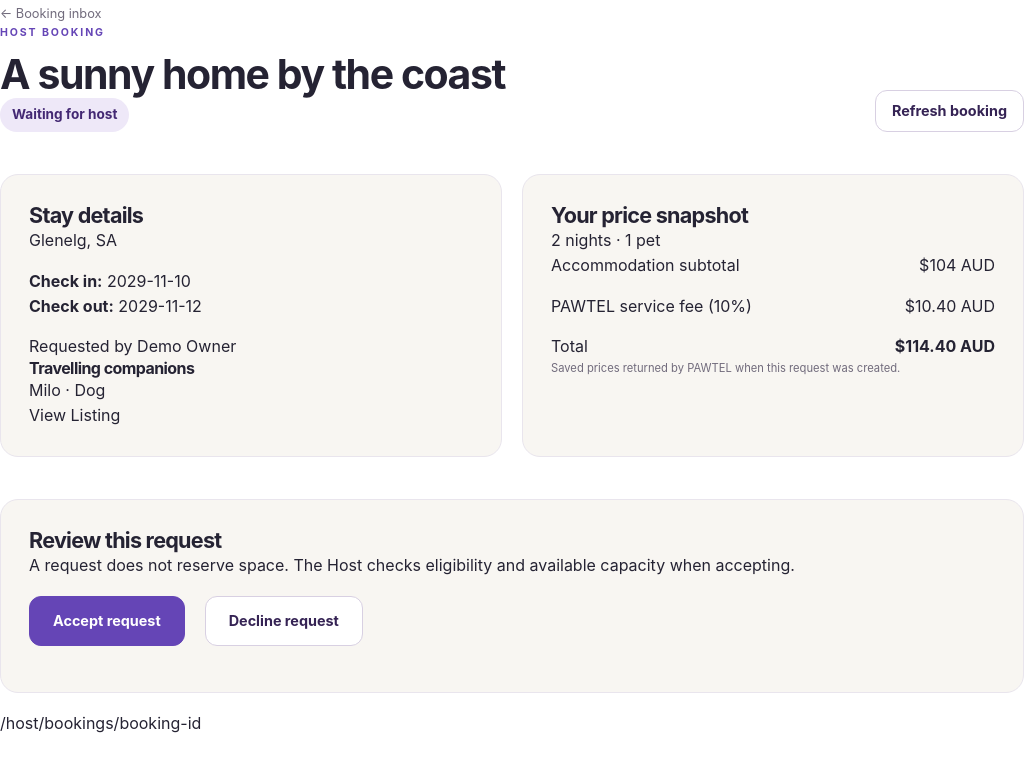
Host acceptance handles booking_capacity_unavailable without pretending success
Click the button "Accept request" at (107, 621), box [29,596,185,646]
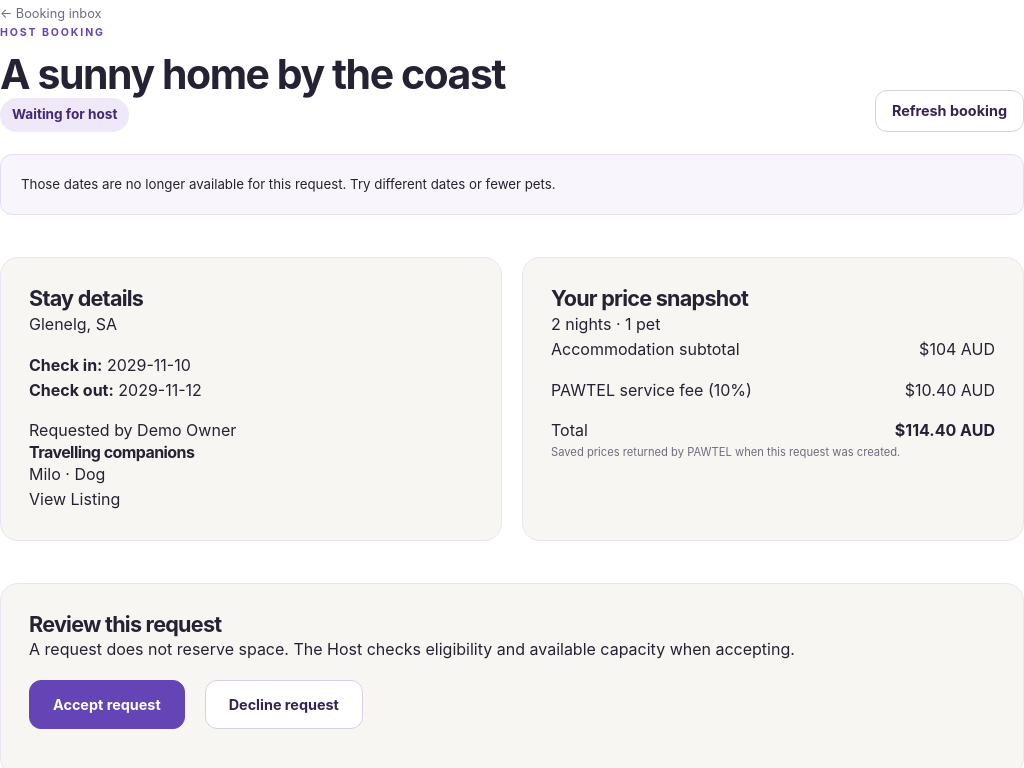
Expected: the text "Waiting for host" is shown, [0,98,129,132]
Result: the message shows "Those dates are no longer available" at [21,176,556,192]
